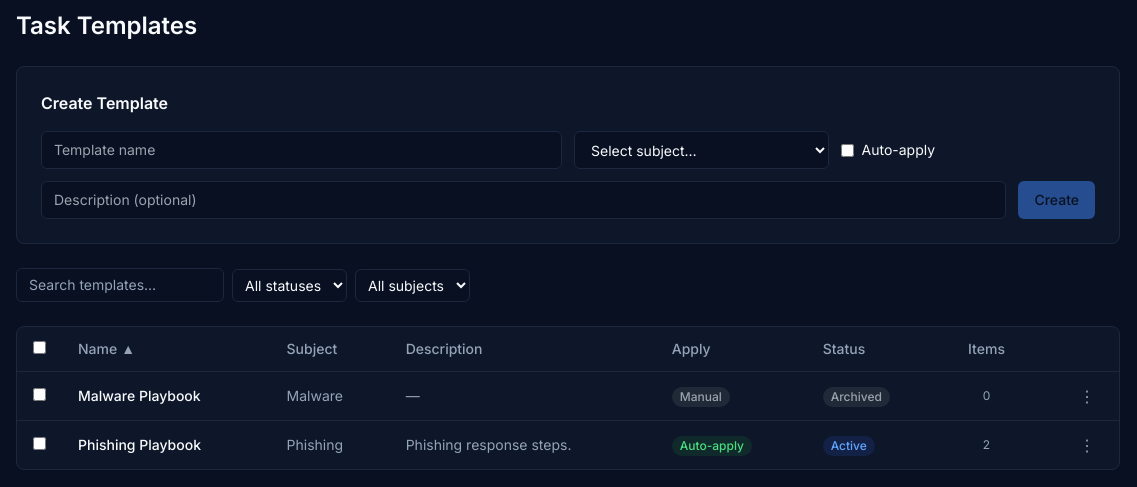
Test: TaskTemplatesAdmin › filters by status
Expected: the text "Phishing Playbook" is shown, [62,420,270,469]
Select "Archived" in the dropdown named "Status filter" at (290, 285), box [232,268,347,302]
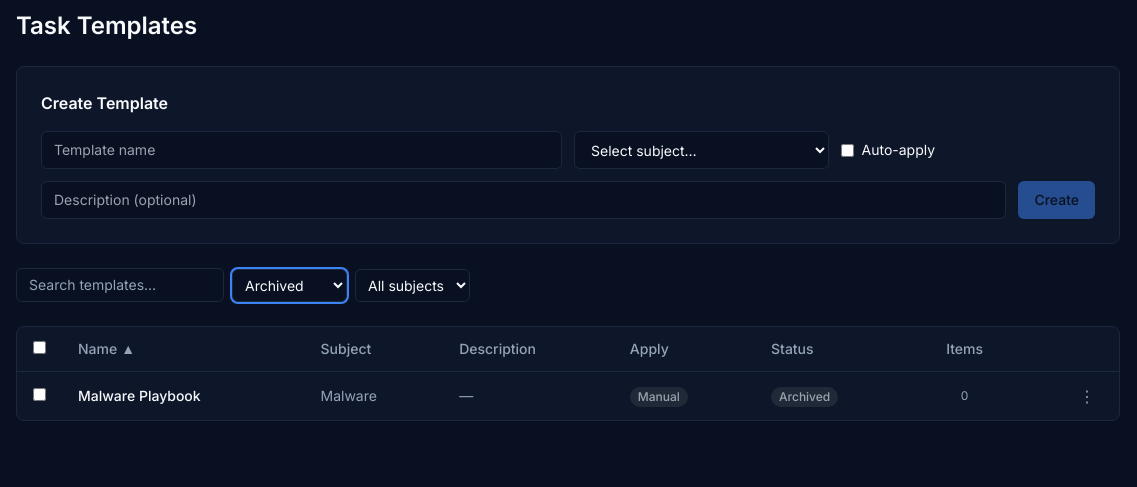
Expected: the text "Malware Playbook" is shown, [62,372,304,420]
Now the text "Phishing Playbook" is gone
